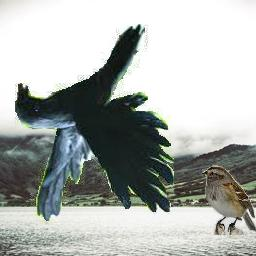Crow: (16, 24, 175, 226)
Sparrow: (202, 165, 256, 235)
